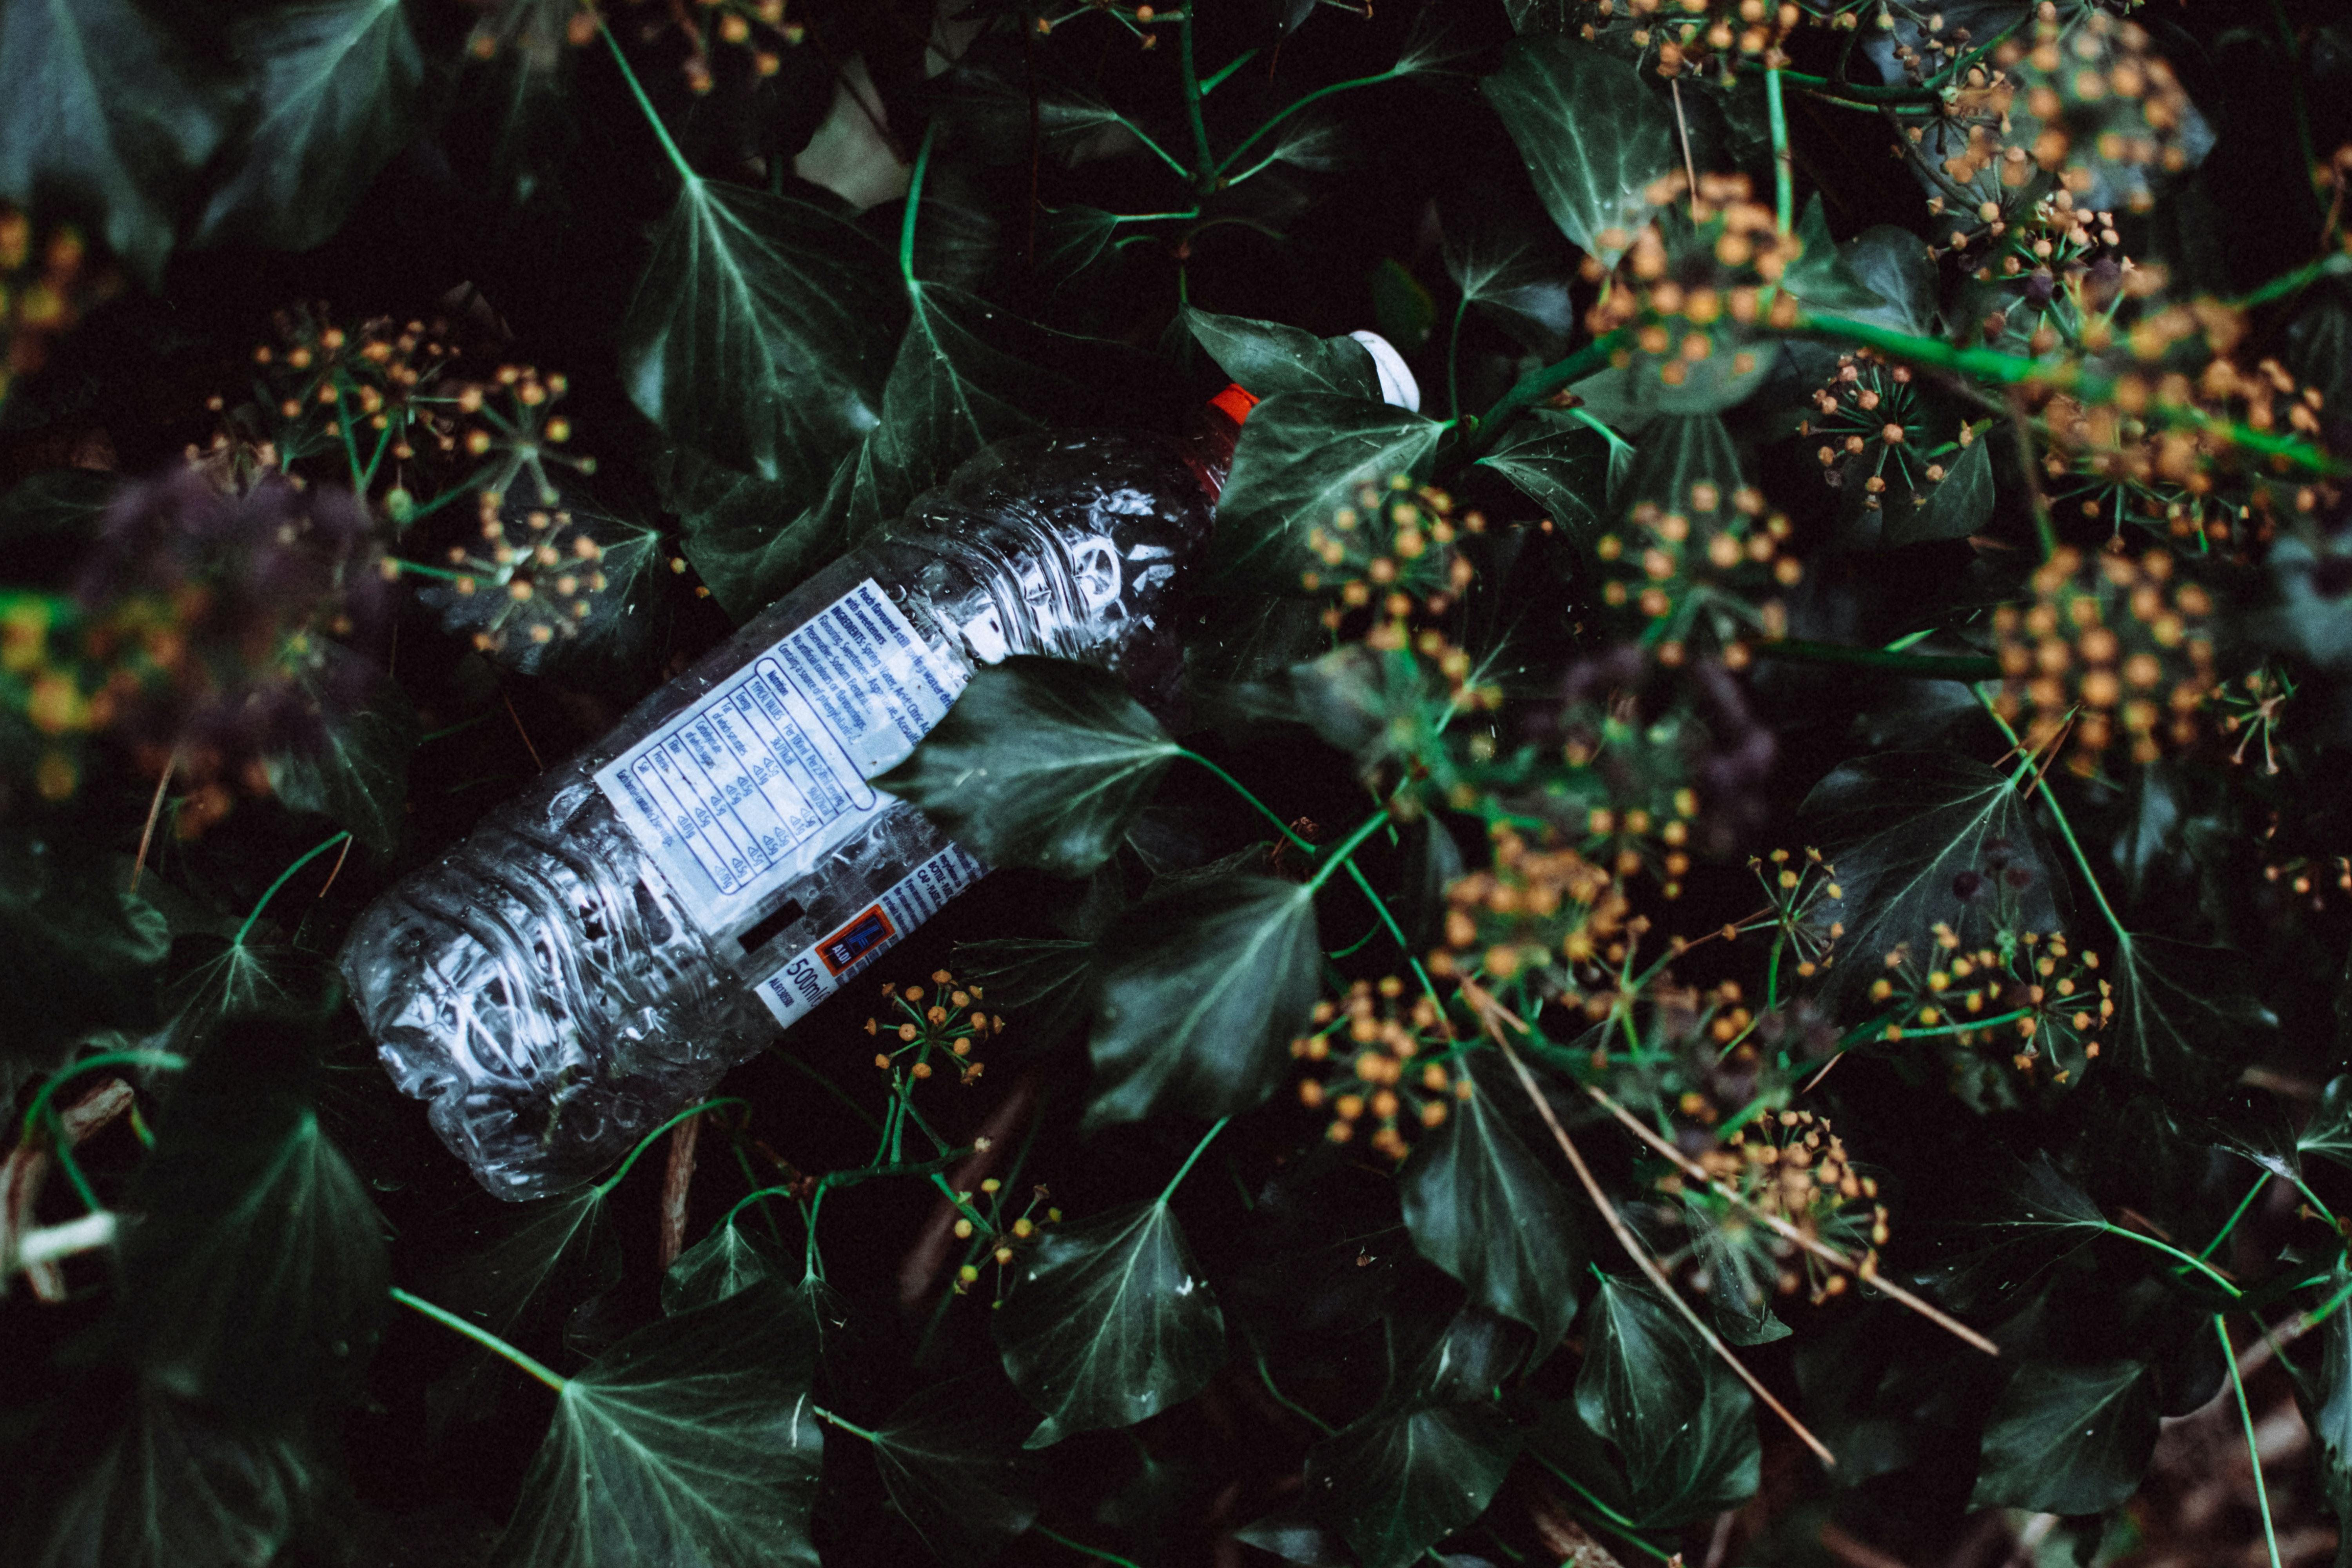bottle: (287, 262, 1486, 1235)
